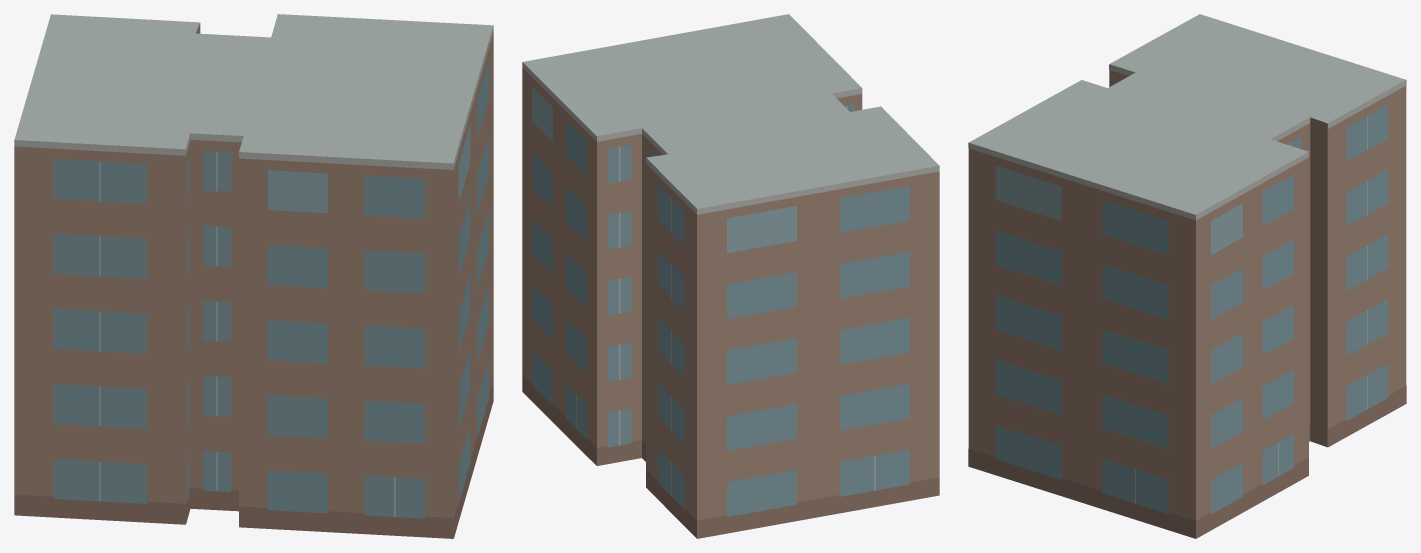
The model's file is survey-upis-32973262.glb.
3 renders of one model, left to right at view 1: azimuth 30°, elevation 25°; view 2: azimuth 150°, elevation 25°; view 3: azimuth 270°, elevation 25°, orthographic. The views are drawn at different scales.
Parts seen in each view (by area): view 1: survey-upis-32973262.tmp; view 2: survey-upis-32973262.tmp; view 3: survey-upis-32973262.tmp.
Boxes of the visible parts, bbox=[...] form: survey-upis-32973262.tmp: bbox=[14, 14, 493, 538]; survey-upis-32973262.tmp: bbox=[522, 14, 939, 538]; survey-upis-32973262.tmp: bbox=[968, 14, 1406, 538].
Bounding box in the file's own units: 18.83 × 14.15 × 17.34.
